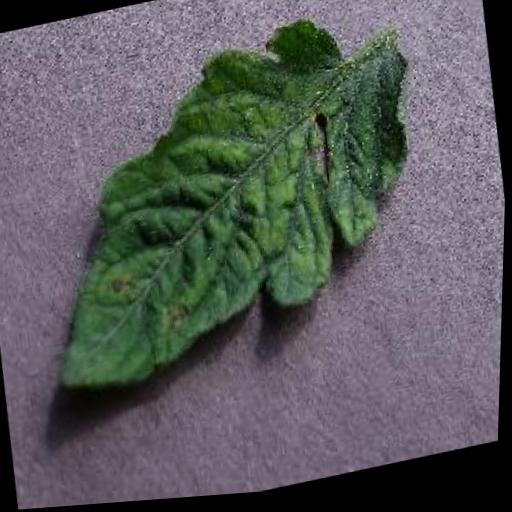Mosaic Virus: (20, 2, 446, 410)
